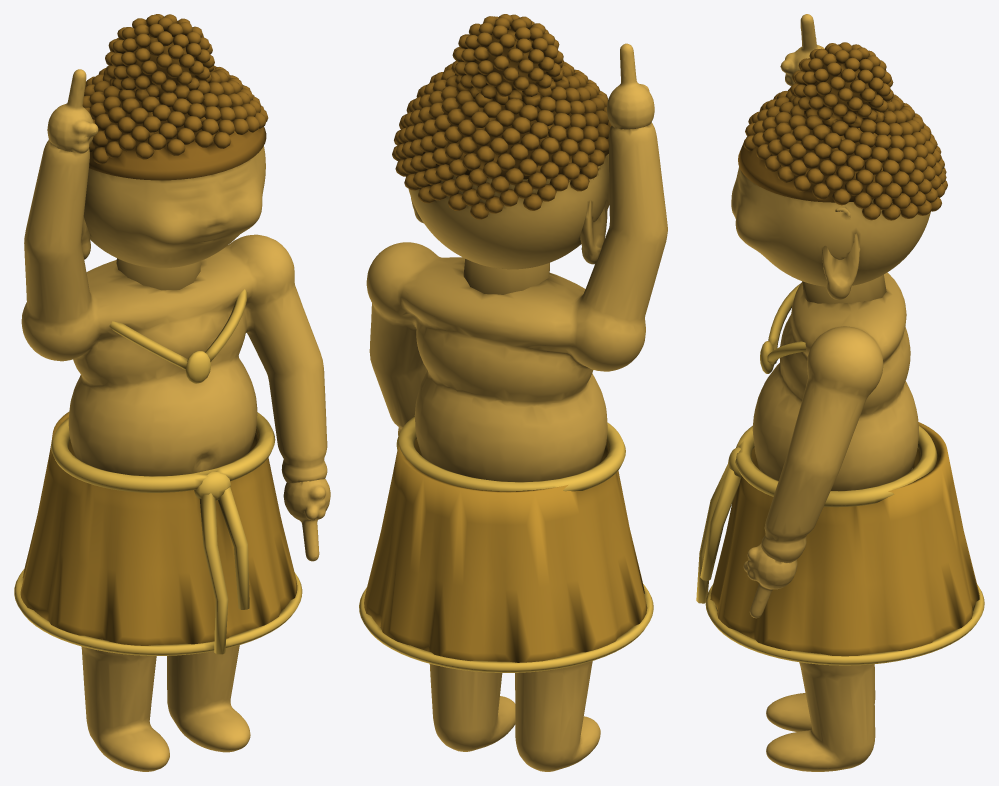
The model's file is taizi.glb.
The picture shows the model from 3 angles, left to right: view 1: azimuth 30°, elevation 25°; view 2: azimuth 150°, elevation 25°; view 3: azimuth 270°, elevation 25°; orthographic projection. The views are drawn at different scales.
Parts seen in each view (by area): view 1: TZ_Body, TZ_Skirt, TZ_Curls, TZ_HeadMesh, TZ_Sash, TZ_HairCap, TZ_Necklace, TZ_HandR, TZ_HandL, TZ_Neck, TZ_Ushnisha; view 2: TZ_Body, TZ_Skirt, TZ_Curls, TZ_HeadMesh, TZ_Sash, TZ_HandR, TZ_Neck, TZ_Ears, TZ_HairCap, TZ_Ushnisha; view 3: TZ_Body, TZ_Skirt, TZ_Curls, TZ_HeadMesh, TZ_Sash, TZ_HairCap, TZ_HandL, TZ_Ears, TZ_Necklace, TZ_Neck, TZ_HandR.
Part boxes in pixels (box(x1,y1,x2,y2)): TZ_Body: box(21, 140, 327, 771); TZ_Skirt: box(20, 412, 297, 645); TZ_Curls: box(82, 14, 268, 164); TZ_HeadMesh: box(83, 146, 265, 268); TZ_Sash: box(14, 412, 302, 655); TZ_HairCap: box(89, 94, 266, 180); TZ_Necklace: box(109, 289, 247, 383); TZ_HandR: box(47, 69, 98, 153); TZ_HandL: box(283, 479, 330, 561); TZ_Neck: box(116, 258, 200, 290); TZ_Ushnisha: box(123, 27, 196, 84); TZ_Body: box(366, 122, 667, 771); TZ_Skirt: box(364, 438, 647, 662); TZ_Curls: box(392, 14, 611, 219); TZ_HeadMesh: box(408, 154, 609, 269); TZ_Sash: box(359, 416, 653, 672); TZ_HandR: box(606, 43, 654, 129); TZ_Neck: box(463, 259, 549, 294); TZ_Ears: box(411, 166, 607, 264); TZ_HairCap: box(416, 95, 608, 179); TZ_Ushnisha: box(474, 26, 546, 89); TZ_Body: box(752, 272, 918, 771); TZ_Skirt: box(710, 422, 979, 656); TZ_Curls: box(743, 42, 947, 220); TZ_HeadMesh: box(731, 166, 930, 286); TZ_Sash: box(696, 425, 984, 665); TZ_HairCap: box(738, 116, 909, 202); TZ_HandL: box(743, 543, 797, 618); TZ_Ears: box(822, 207, 860, 299); TZ_Necklace: box(760, 283, 806, 373); TZ_Neck: box(802, 274, 886, 303); TZ_HandR: box(780, 14, 824, 85).
Size of the model in its own units: 0.4147 by 0.9969 by 0.372.
